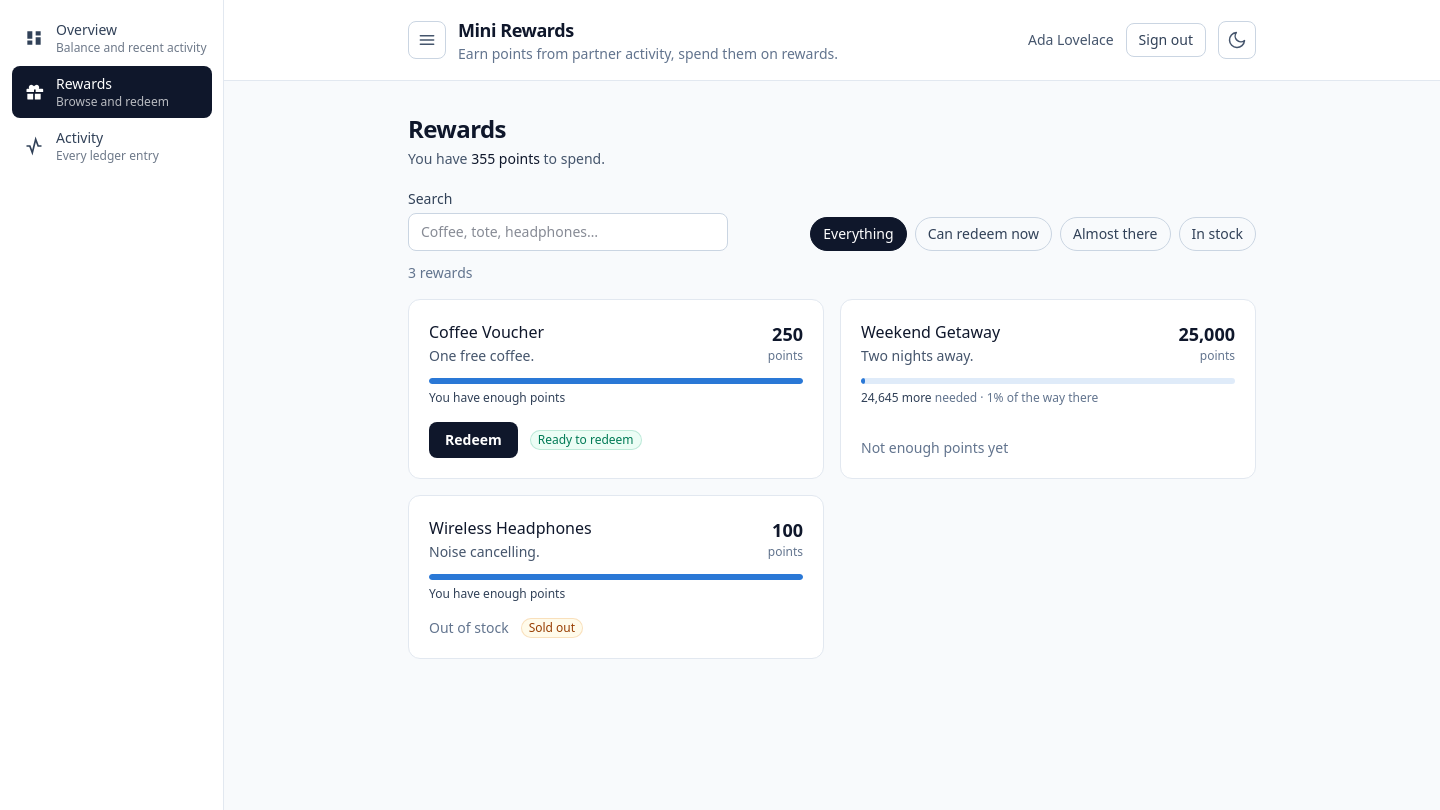
it: redeeming › shows the arithmetic before spending anything
Click the button "Redeem". click: (473, 440)
box: left=429, top=422, right=518, bottom=458
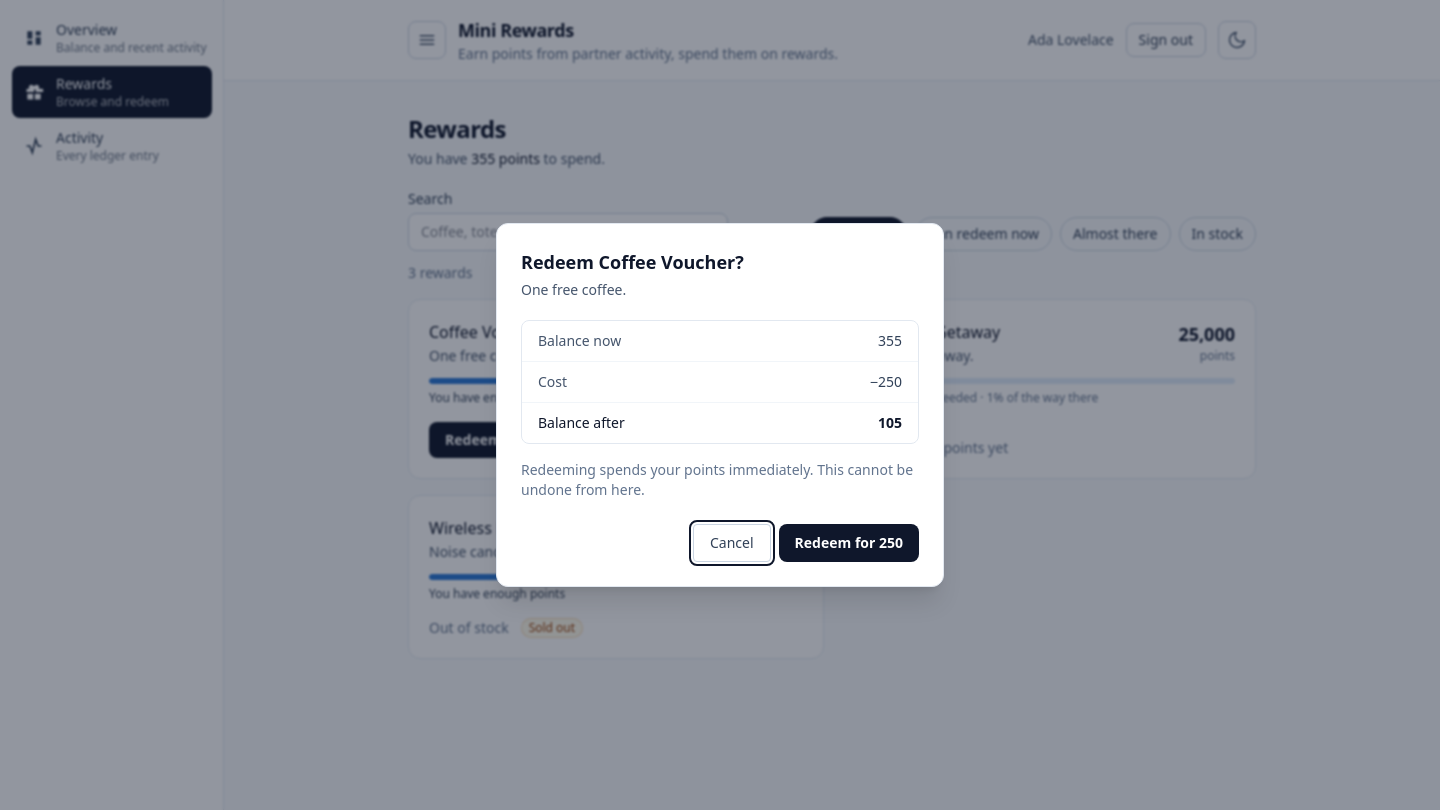
Expected: the heading "Redeem Coffee Voucher?" is shown, left=521, top=250, right=744, bottom=274
Expected: the text "355" is shown, left=878, top=331, right=902, bottom=351
Expected: the text "−250" is shown, left=870, top=372, right=902, bottom=392
